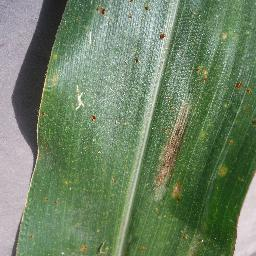Corn_Blight: (147, 90, 200, 202), (177, 231, 206, 255), (226, 81, 254, 100), (194, 61, 212, 88), (71, 82, 86, 112), (40, 72, 63, 91), (216, 162, 235, 184), (94, 2, 110, 25), (25, 110, 46, 125), (126, 53, 140, 72), (214, 27, 229, 44), (126, 0, 134, 30), (79, 242, 98, 254), (88, 106, 98, 125), (220, 134, 234, 145), (139, 5, 151, 16), (158, 27, 168, 40), (246, 116, 256, 127)
